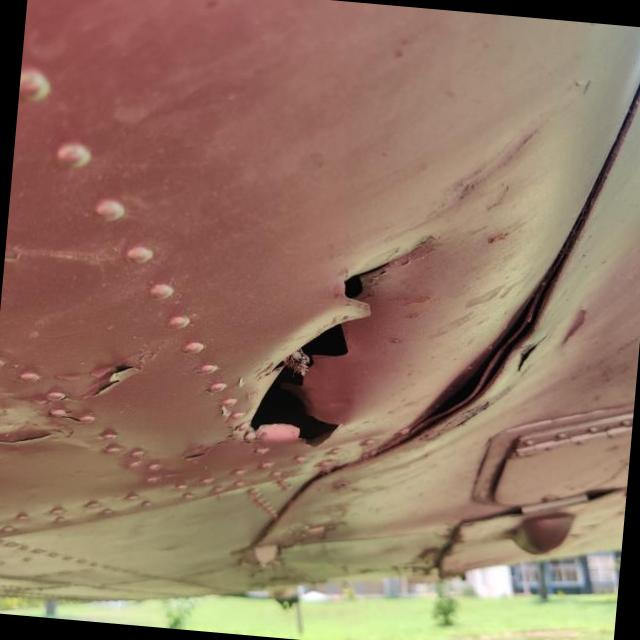Crack: (252, 304, 411, 445), (345, 244, 429, 299)
Paint-off: (81, 364, 140, 397), (0, 425, 62, 446), (45, 406, 95, 424)
